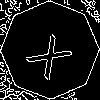X: (25, 25, 81, 81)
